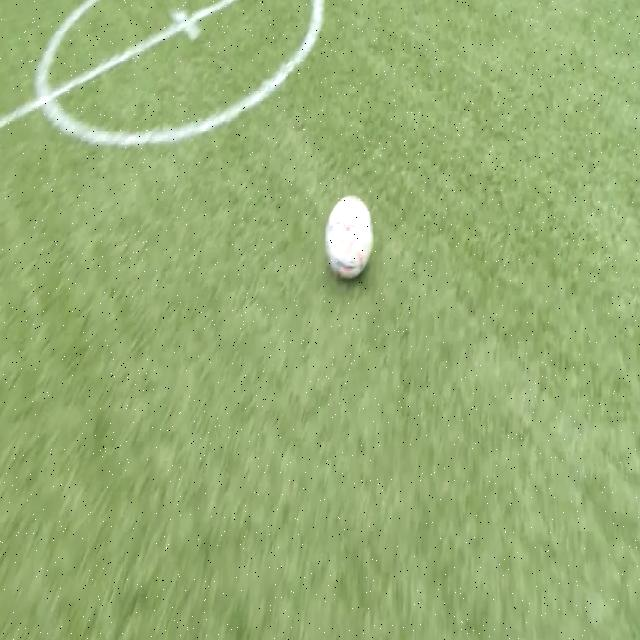ball: (326, 195, 374, 278)
